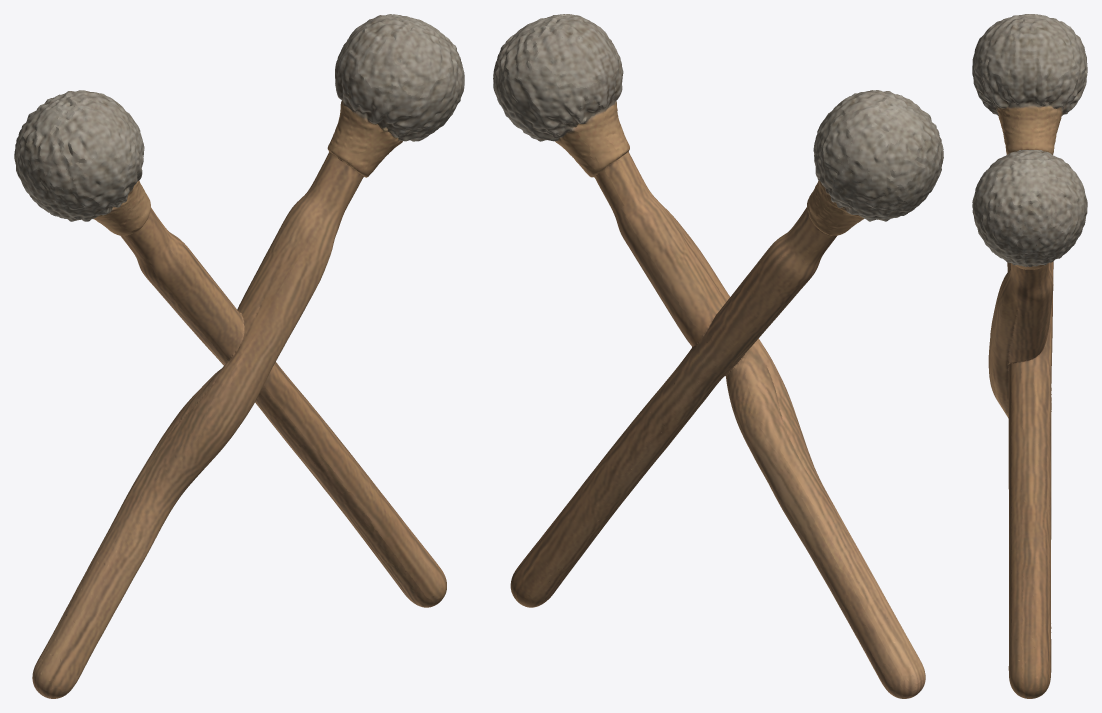
File: story-rise.glb
3 renders of one model, left to right at view 1: azimuth 30°, elevation 25°; view 2: azimuth 150°, elevation 25°; view 3: azimuth 270°, elevation 25°, orthographic. The views are drawn at different scales.
Visible parts, largest first — view 1: world; view 2: world; view 3: world.
Part boxes in pixels (box(x1,y1,x2,y2)): world: box(14, 14, 464, 698); world: box(493, 14, 943, 698); world: box(972, 14, 1087, 698).
Bounding box in the file's own units: 0.3 × 0.3942 × 0.0777.
1 material, 1 textured.
